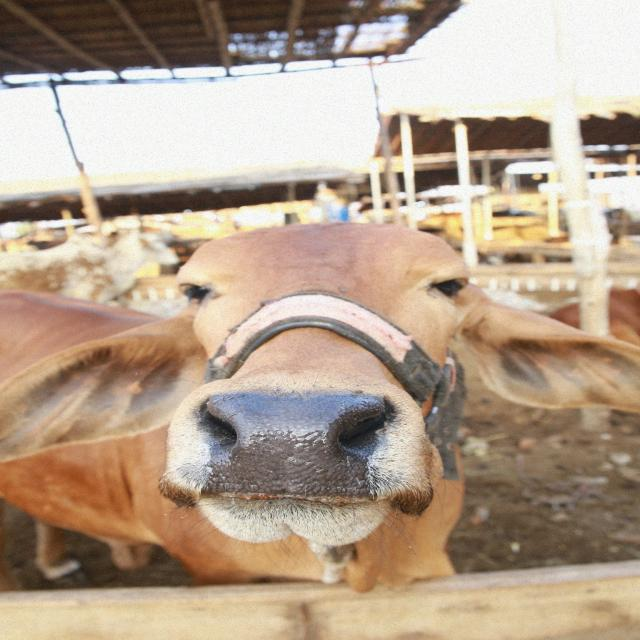muzzles: (180, 380, 412, 508)
